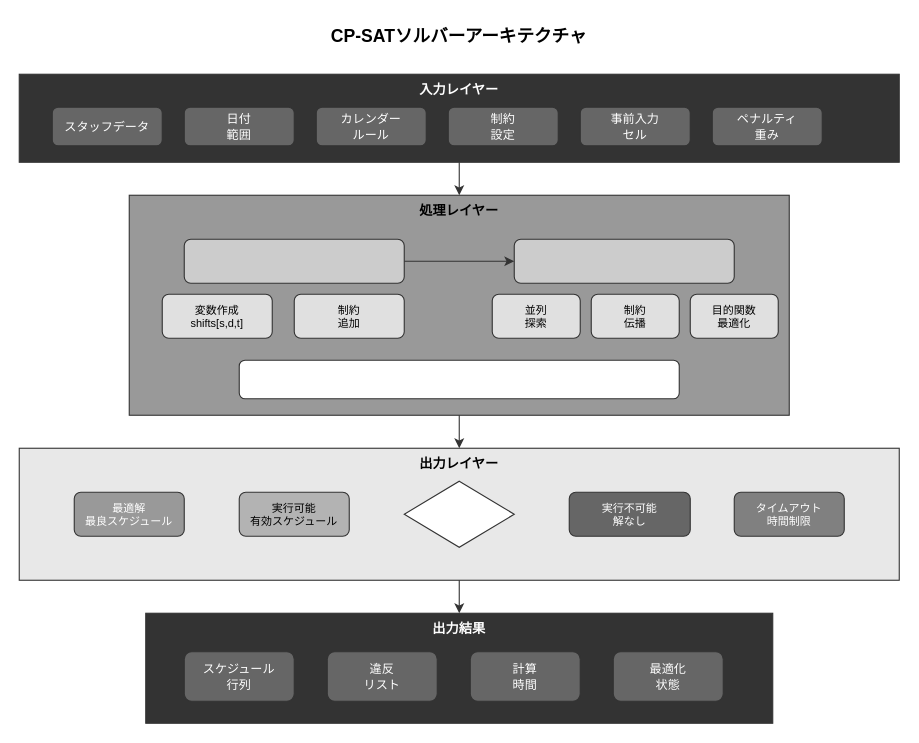
The diagram is 919 pixels wide and 743 high, and some of its shapes have lost their labels. Here are the shapes that lost their labels. From the top down, the centre of each, then its label:
At point 293,260: "モデルビルダー".
At point 623,260: "CP-SATソルバーコア".
At point 458,379: "目的関数: 最小化 Σ(重み × 違反)".
At point 458,513: "状態?".
